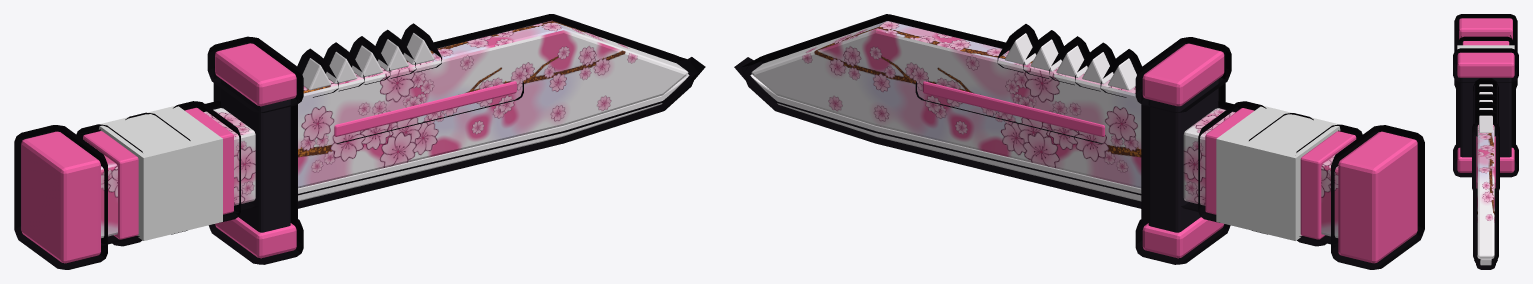
Rendered from Couteau_Sakura.fbx.
The picture shows the model from 3 angles, left to right: view 1: azimuth 30°, elevation 25°; view 2: azimuth 150°, elevation 25°; view 3: azimuth 270°, elevation 25°; orthographic projection. The views are drawn at different scales.
Visible parts, largest first — view 1: Body_Sakura, Body_Rose, Body_Contour, Root, Body_Blanc, Body_Noir; view 2: Body_Sakura, Body_Rose, Body_Contour, Root, Body_Blanc, Body_Noir; view 3: Body_Contour, Body_Rose, Body_Sakura, Body_Noir, Body_Blanc, Root.
Part boxes in pixels (x1,y1,x2,y2): Body_Sakura: (101,20,688,238); Body_Rose: (21,43,516,263); Body_Contour: (14,14,705,269); Root: (99,105,222,240); Body_Blanc: (298,33,689,201); Body_Noir: (220,79,290,232); Body_Sakura: (751,21,1338,237); Body_Rose: (923,43,1417,263); Body_Contour: (734,14,1424,269); Root: (1216,105,1340,240); Body_Blanc: (750,33,1141,201); Body_Noir: (1148,79,1218,232); Body_Contour: (1453,14,1518,269); Body_Rose: (1457,18,1514,188); Body_Sakura: (1477,125,1494,258); Body_Noir: (1460,78,1511,157); Body_Blanc: (1479,84,1492,265); Root: (1457,45,1514,49).
Bounding box in the file's own units: 1.67 × 0.457 × 0.2305.
5 materials, 1 textured.
